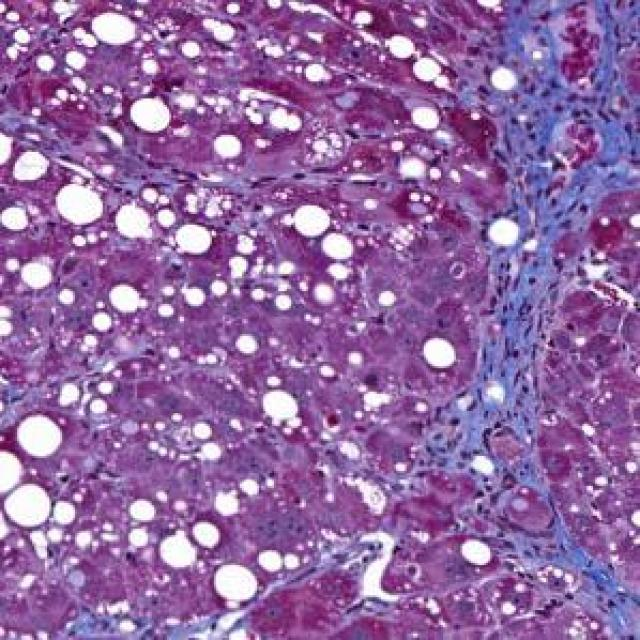fibrosis: (479, 0, 639, 235), (462, 295, 561, 473), (477, 533, 640, 640)
